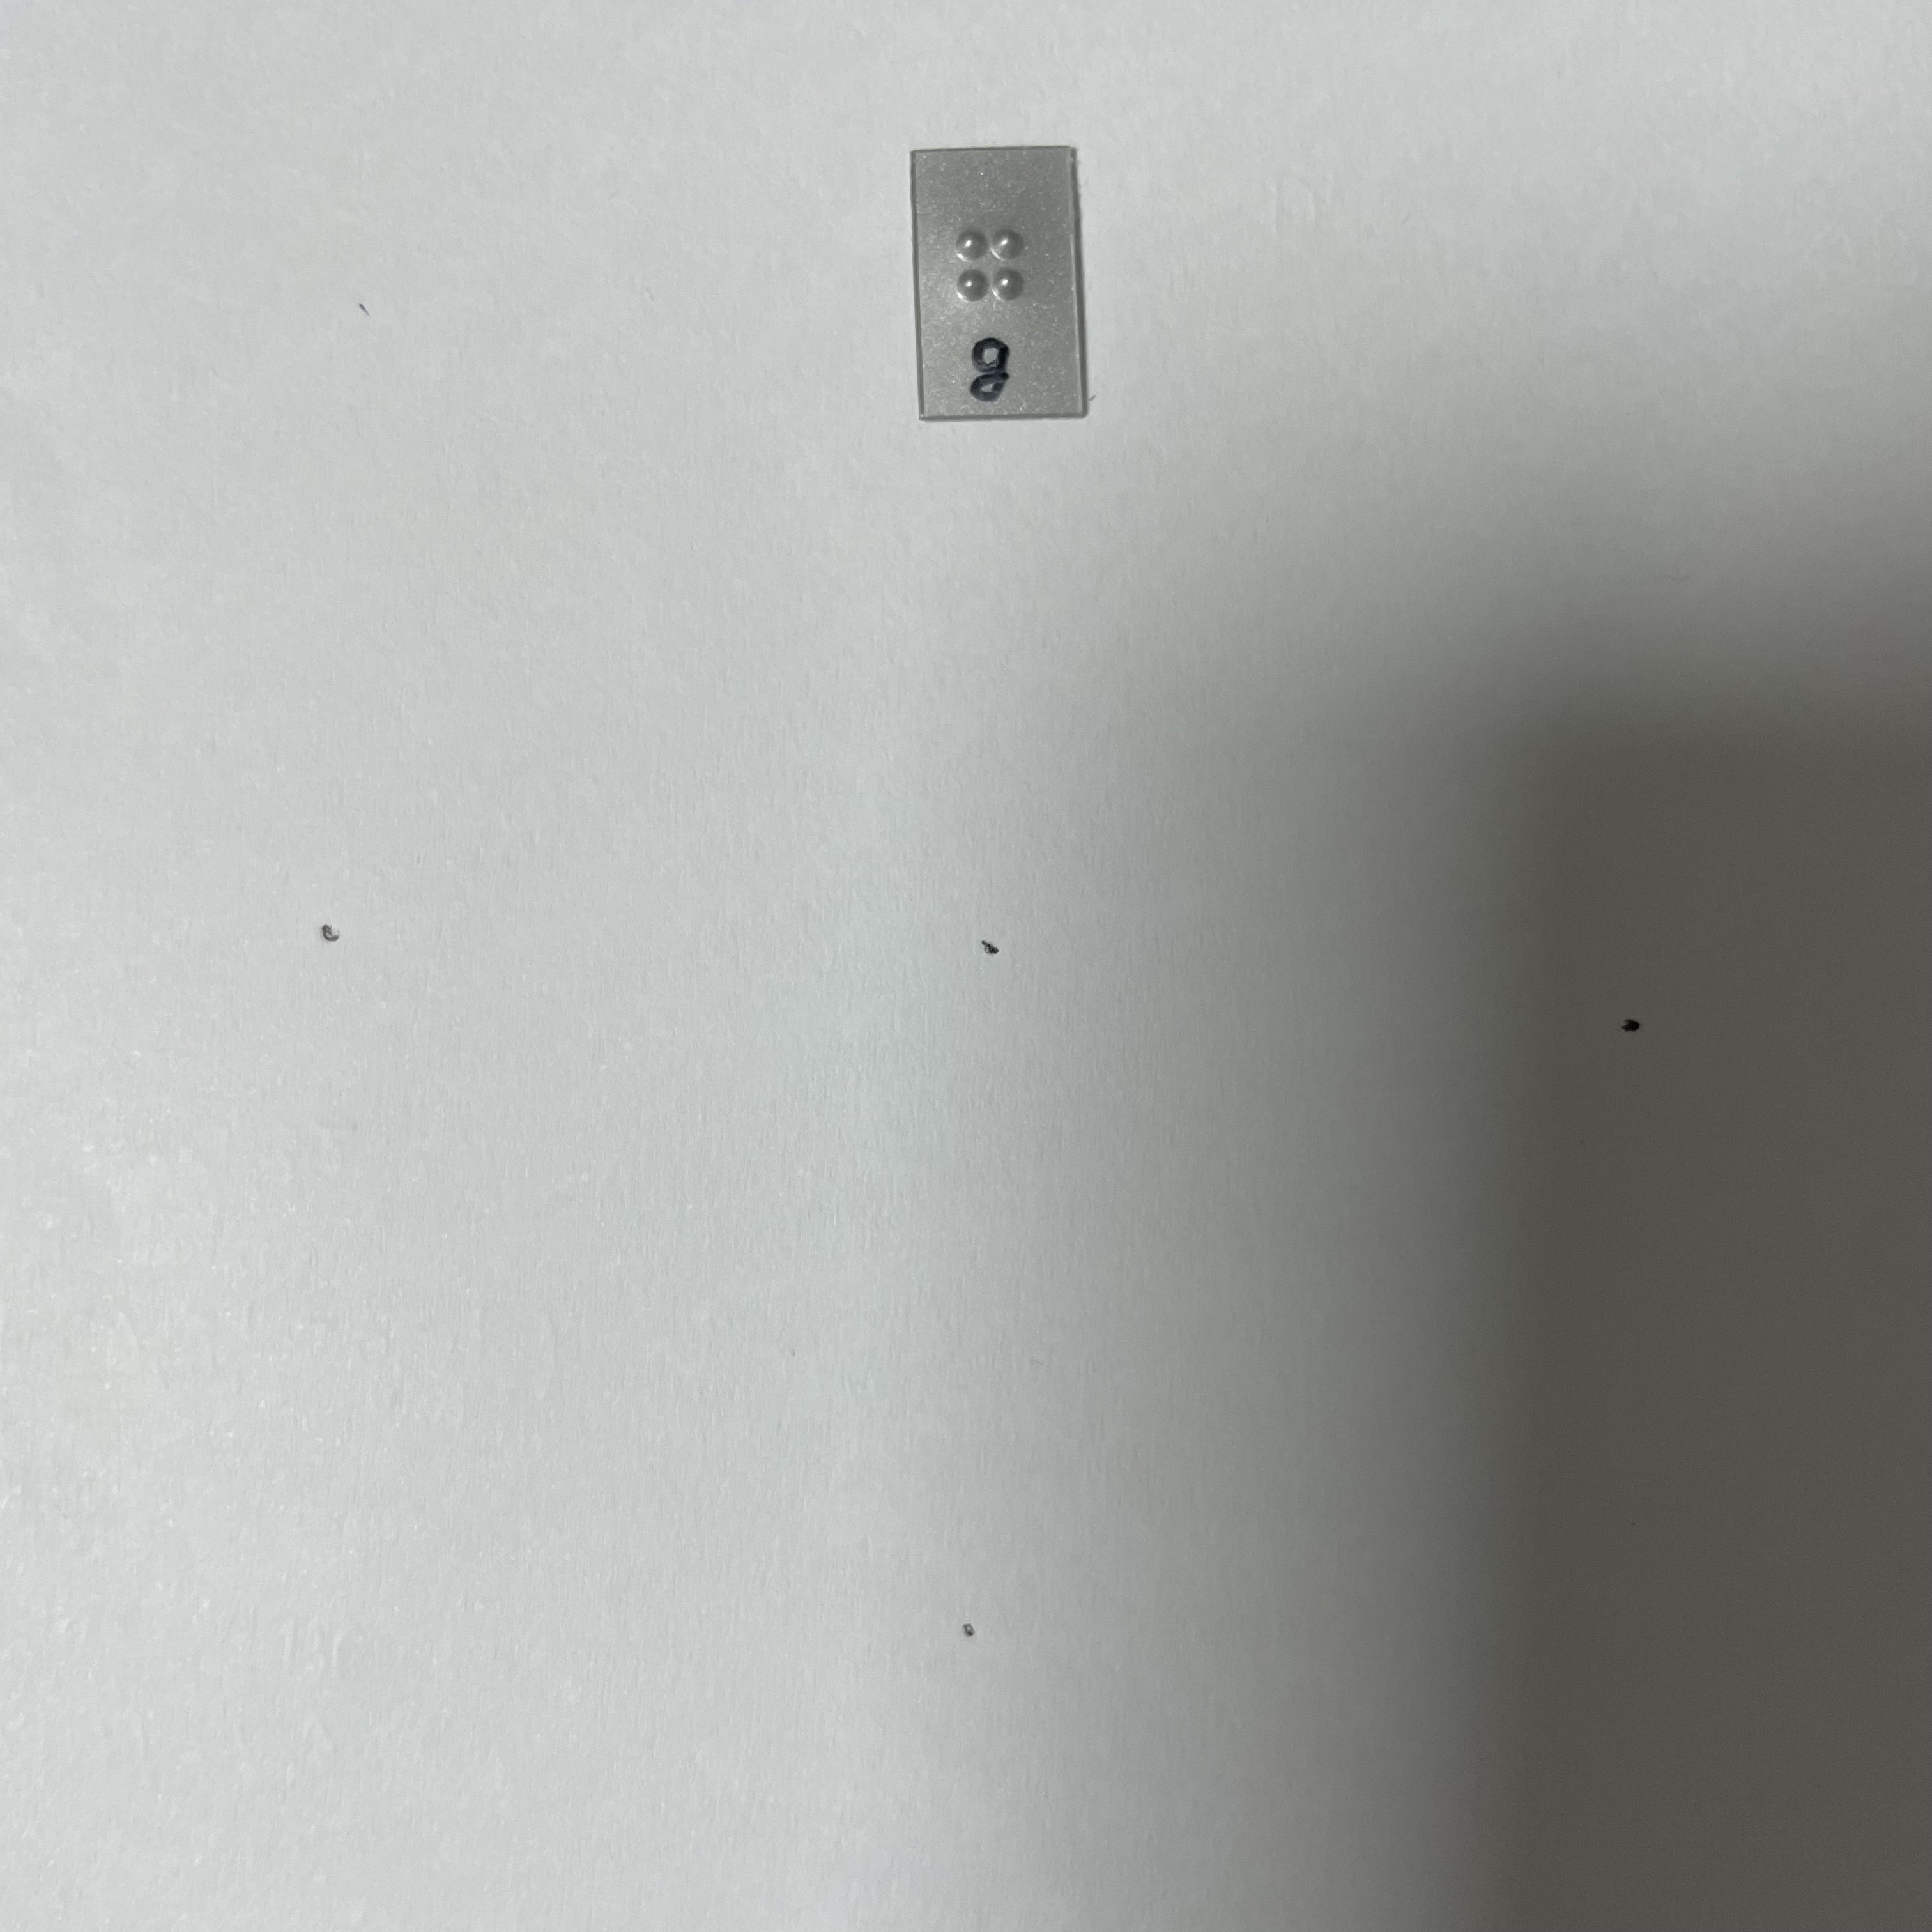g: (942, 211, 1041, 341)
